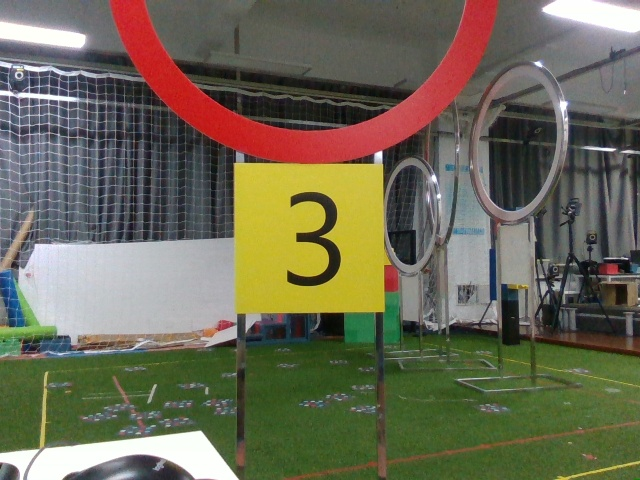target: (237, 162, 382, 309)
